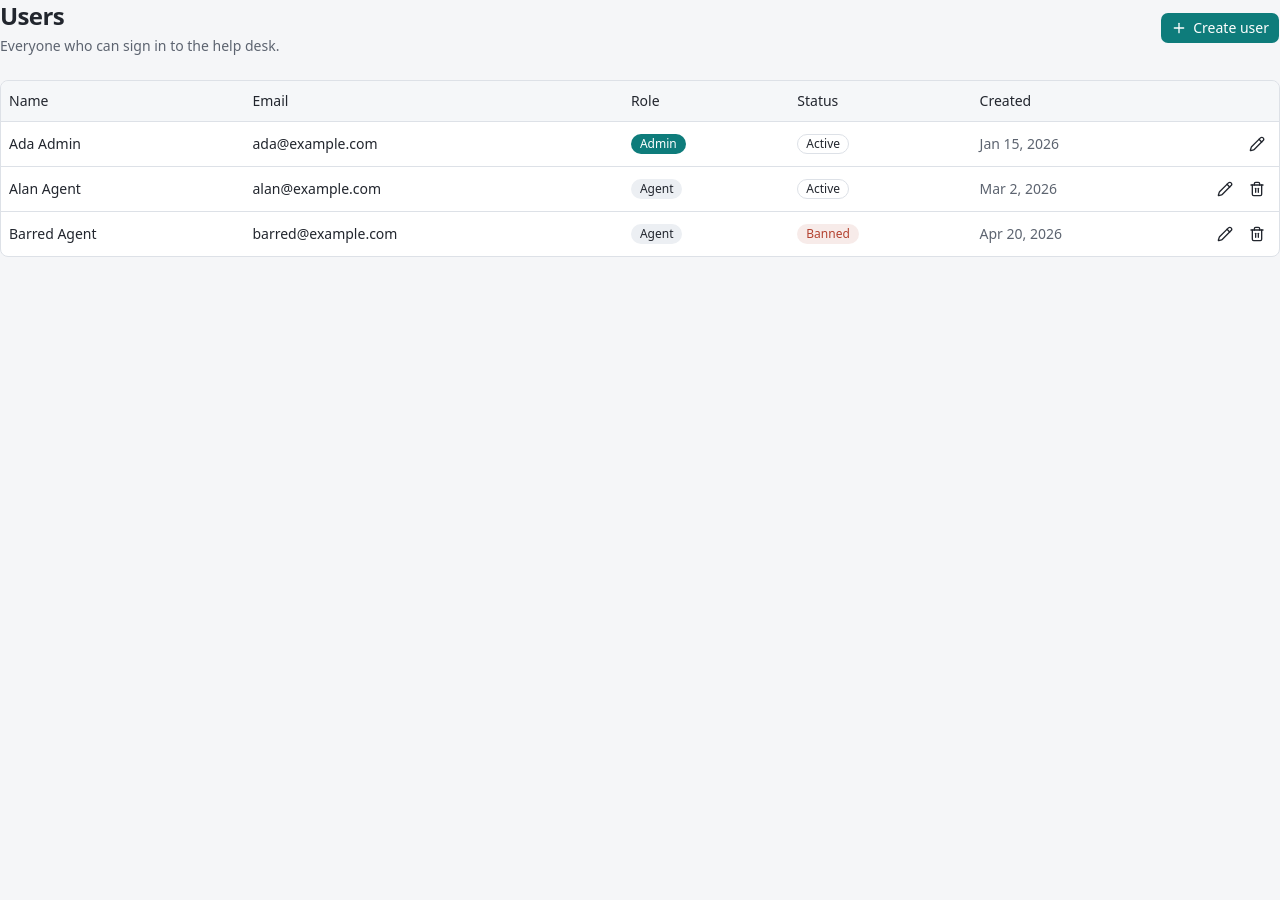
Scenario: UsersPage › edit user dialog › opens with the row's user and refreshes the list after saving
Expected: the text "Alan Agent" is shown, [1,166,244,211]
Click the button named "Edit Alan Agent" at (1225, 188), box [1211,174,1239,202]
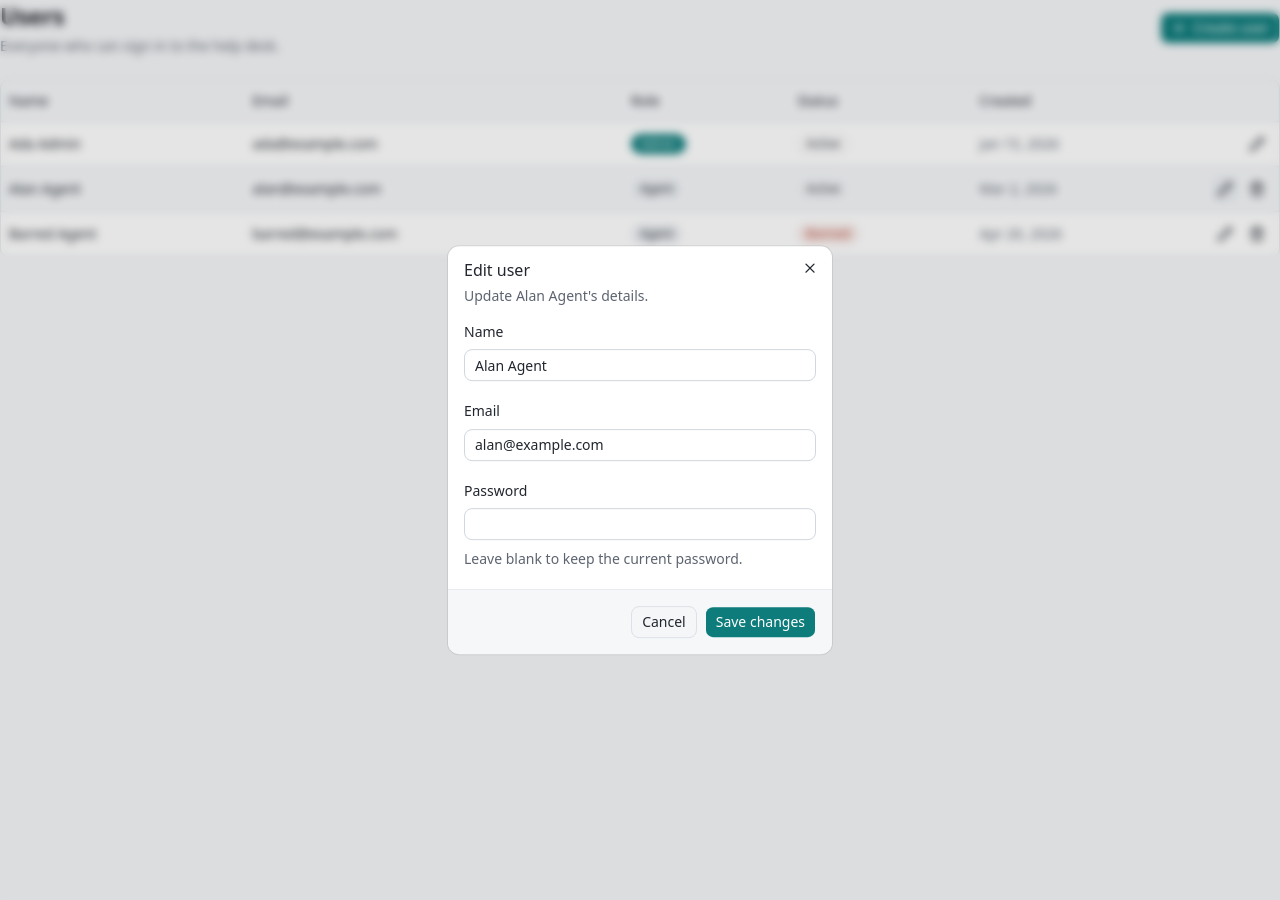
Expected: the field labelled "Email" holds "alan@example.com", [464,429,816,461]
Replace the text in the field labelled "Name" with "Alan Turing" at (640, 365), box [464,349,816,381]
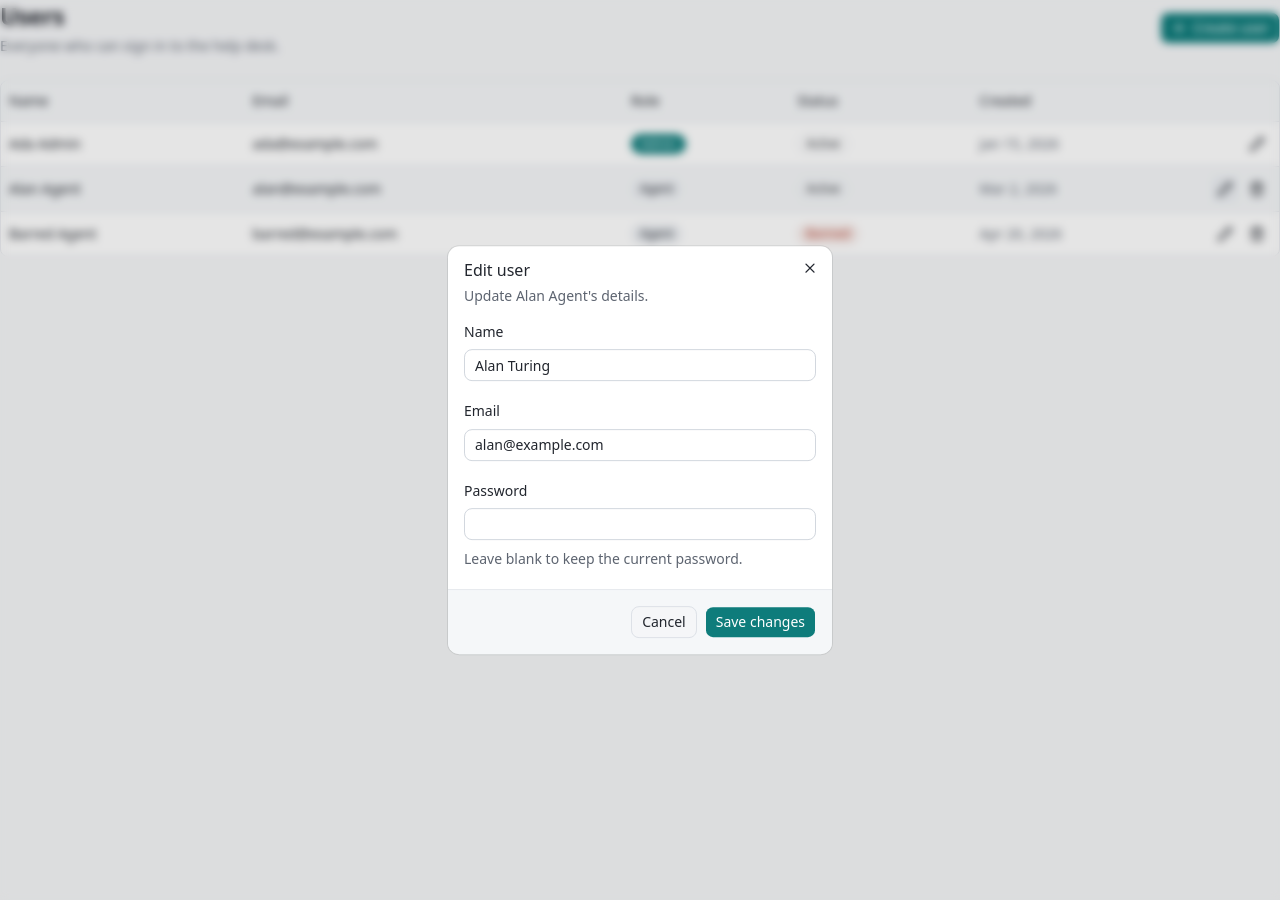
Click the button "Save changes" at (760, 622), box [705,606,816,638]
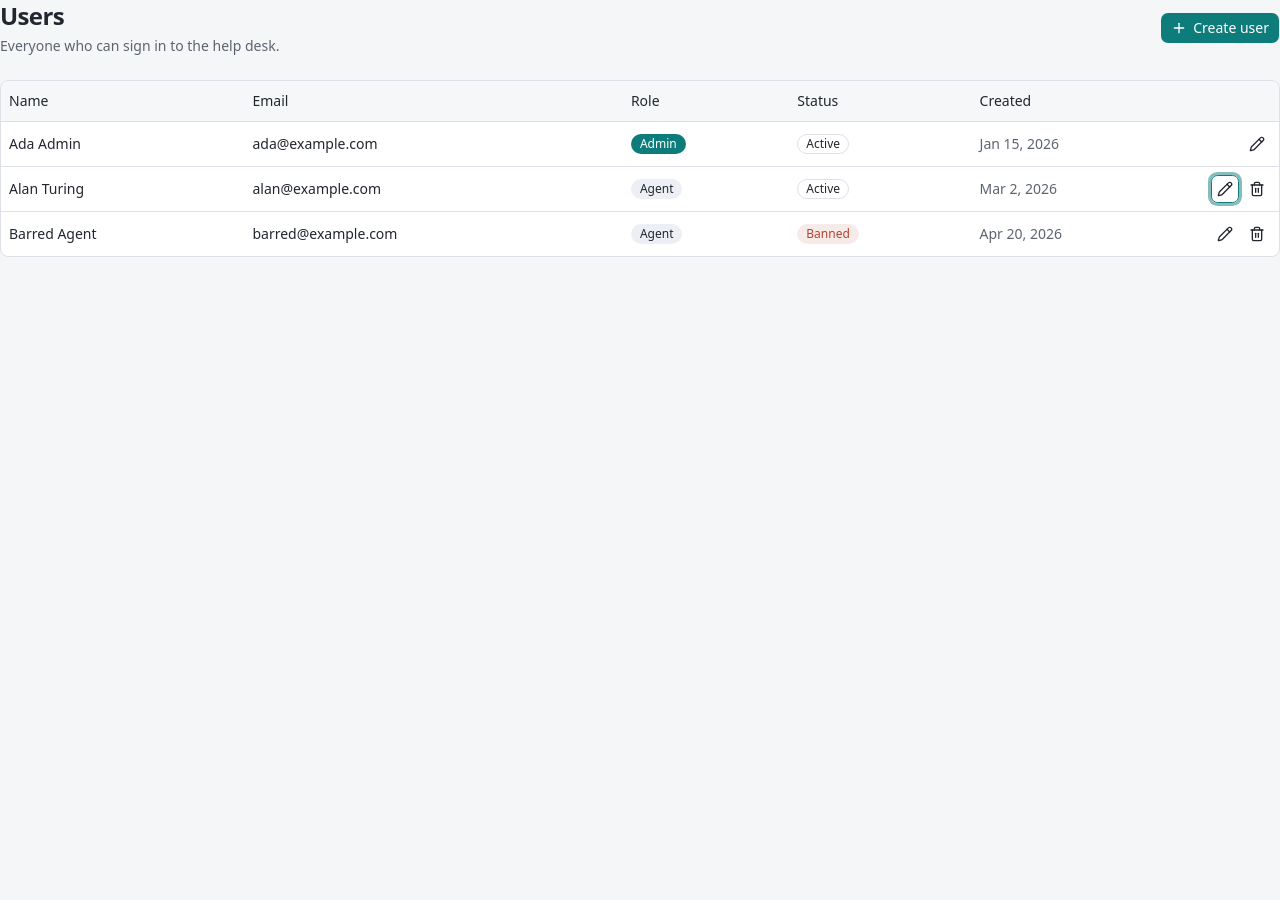
Expected: the row "Alan Turing alan@example.com Agent Active Mar 2, 2026" is shown, [1,166,1279,211]
Expected: the dialog is gone
Expected: the text "Alan Agent" is gone
